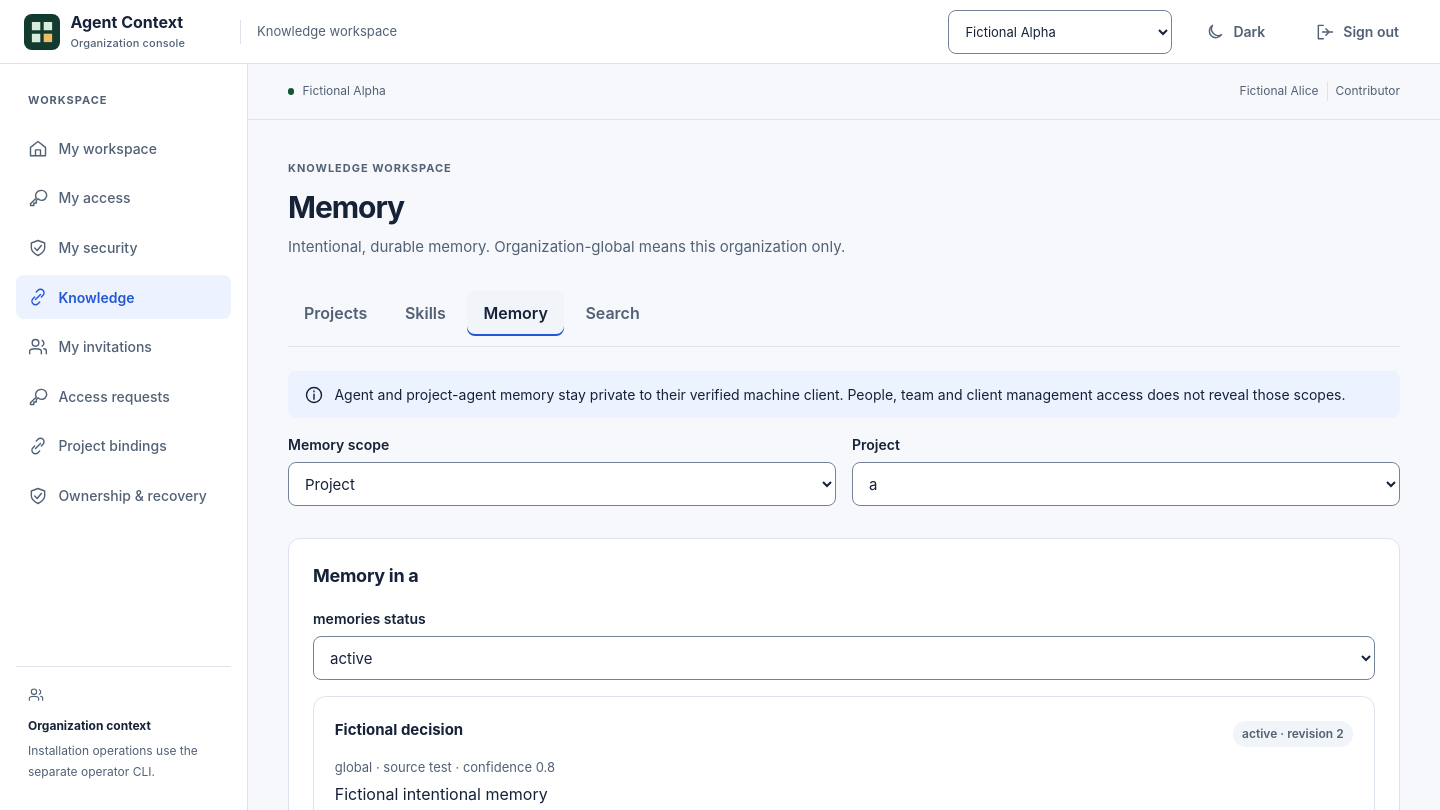
Test: knowledge writes and history › keeps private scopes disabled and read-A/write-B controls coupled
Expected: the heading "Fictional decision" is shown, x1=335 y1=718 x2=463 y2=742
Expected: the button "Create memory" is not shown
Select "b" in the dropdown labelled "Project" at (1126, 484), box x1=852 y1=462 x2=1400 y2=506
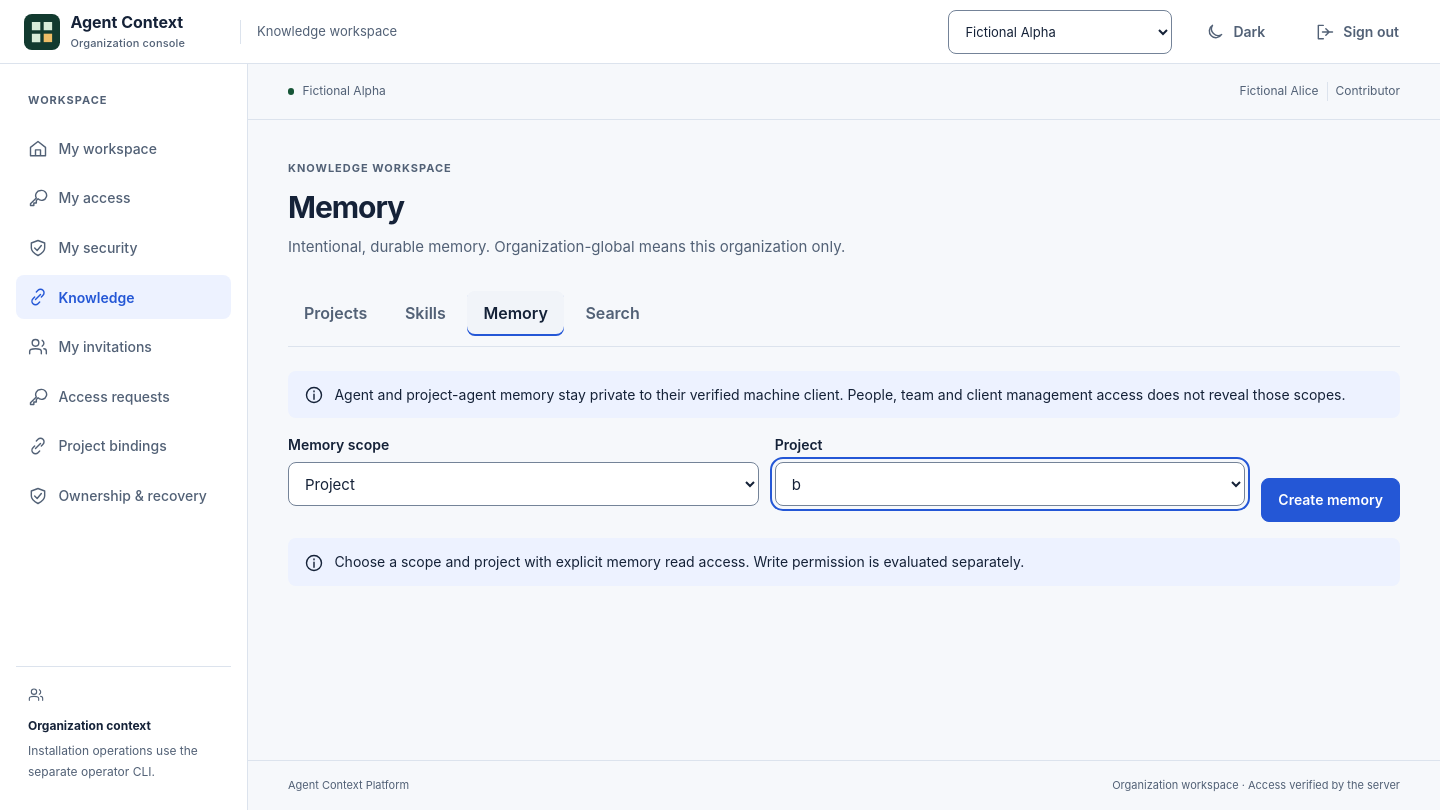
Result: the button "Create memory" is enabled at x1=1261 y1=478 x2=1400 y2=522
Result: the heading "Fictional decision" is gone
